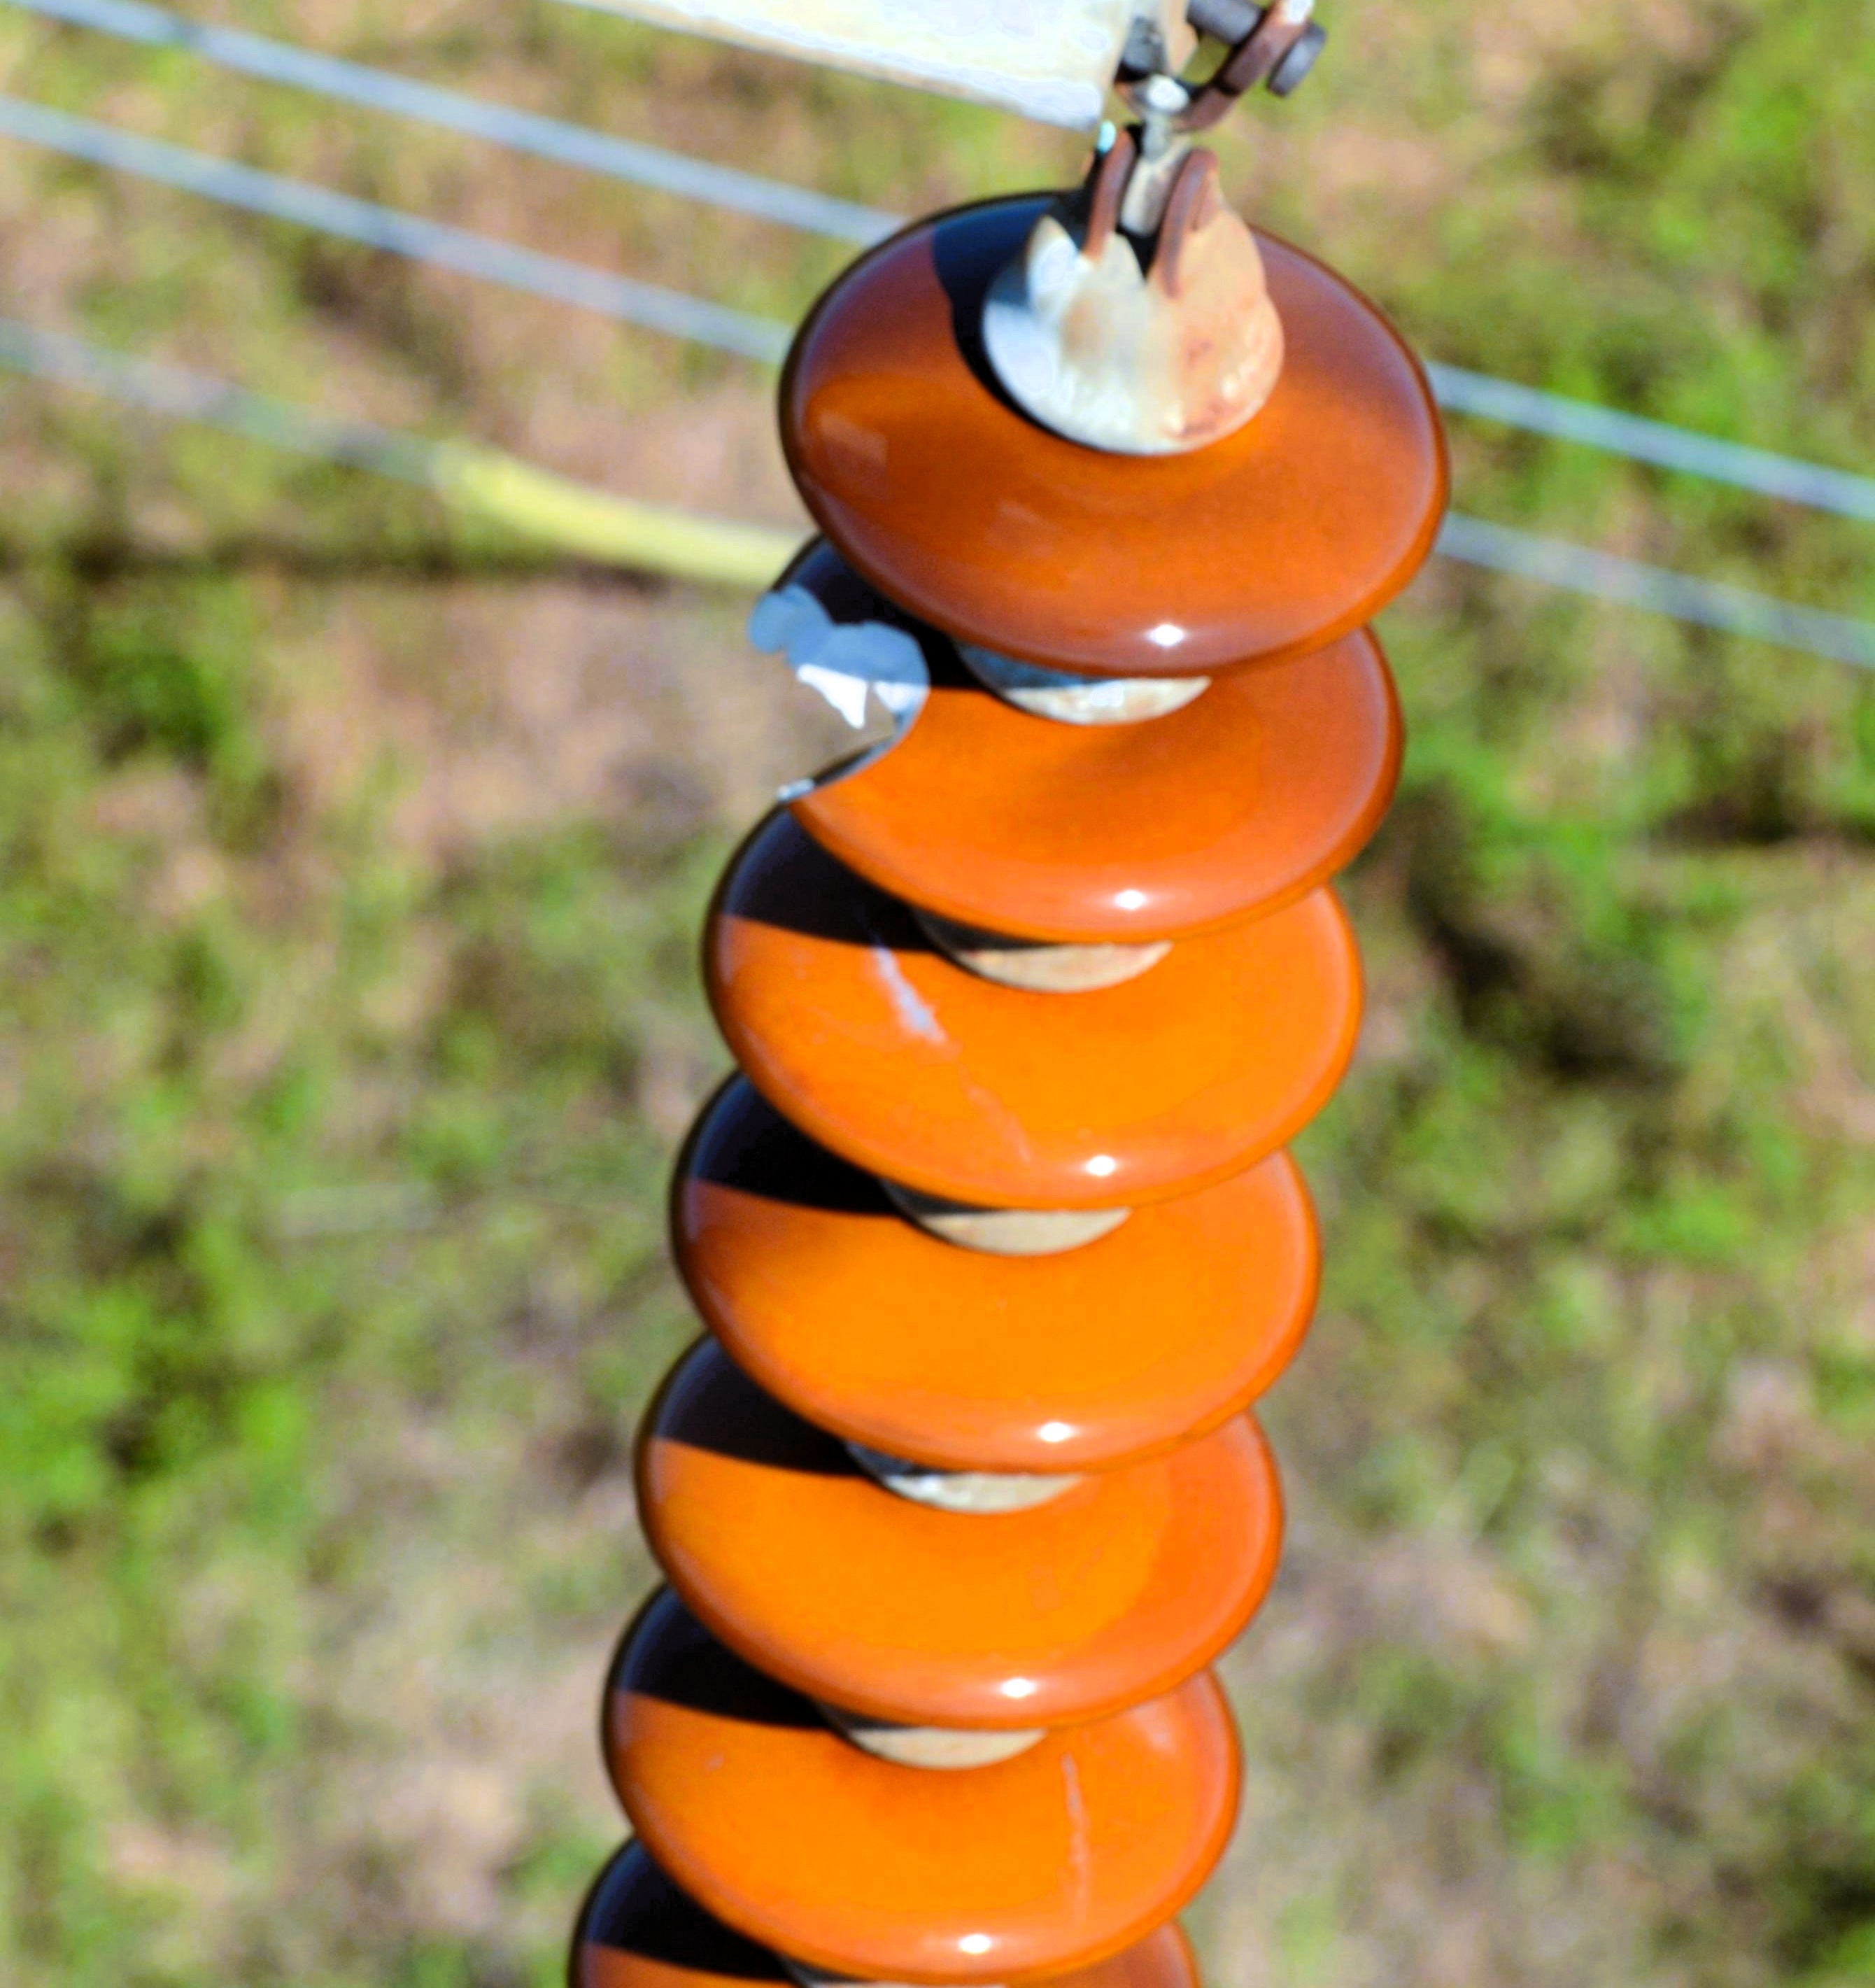insulator breakage: (691, 541, 1404, 957)
